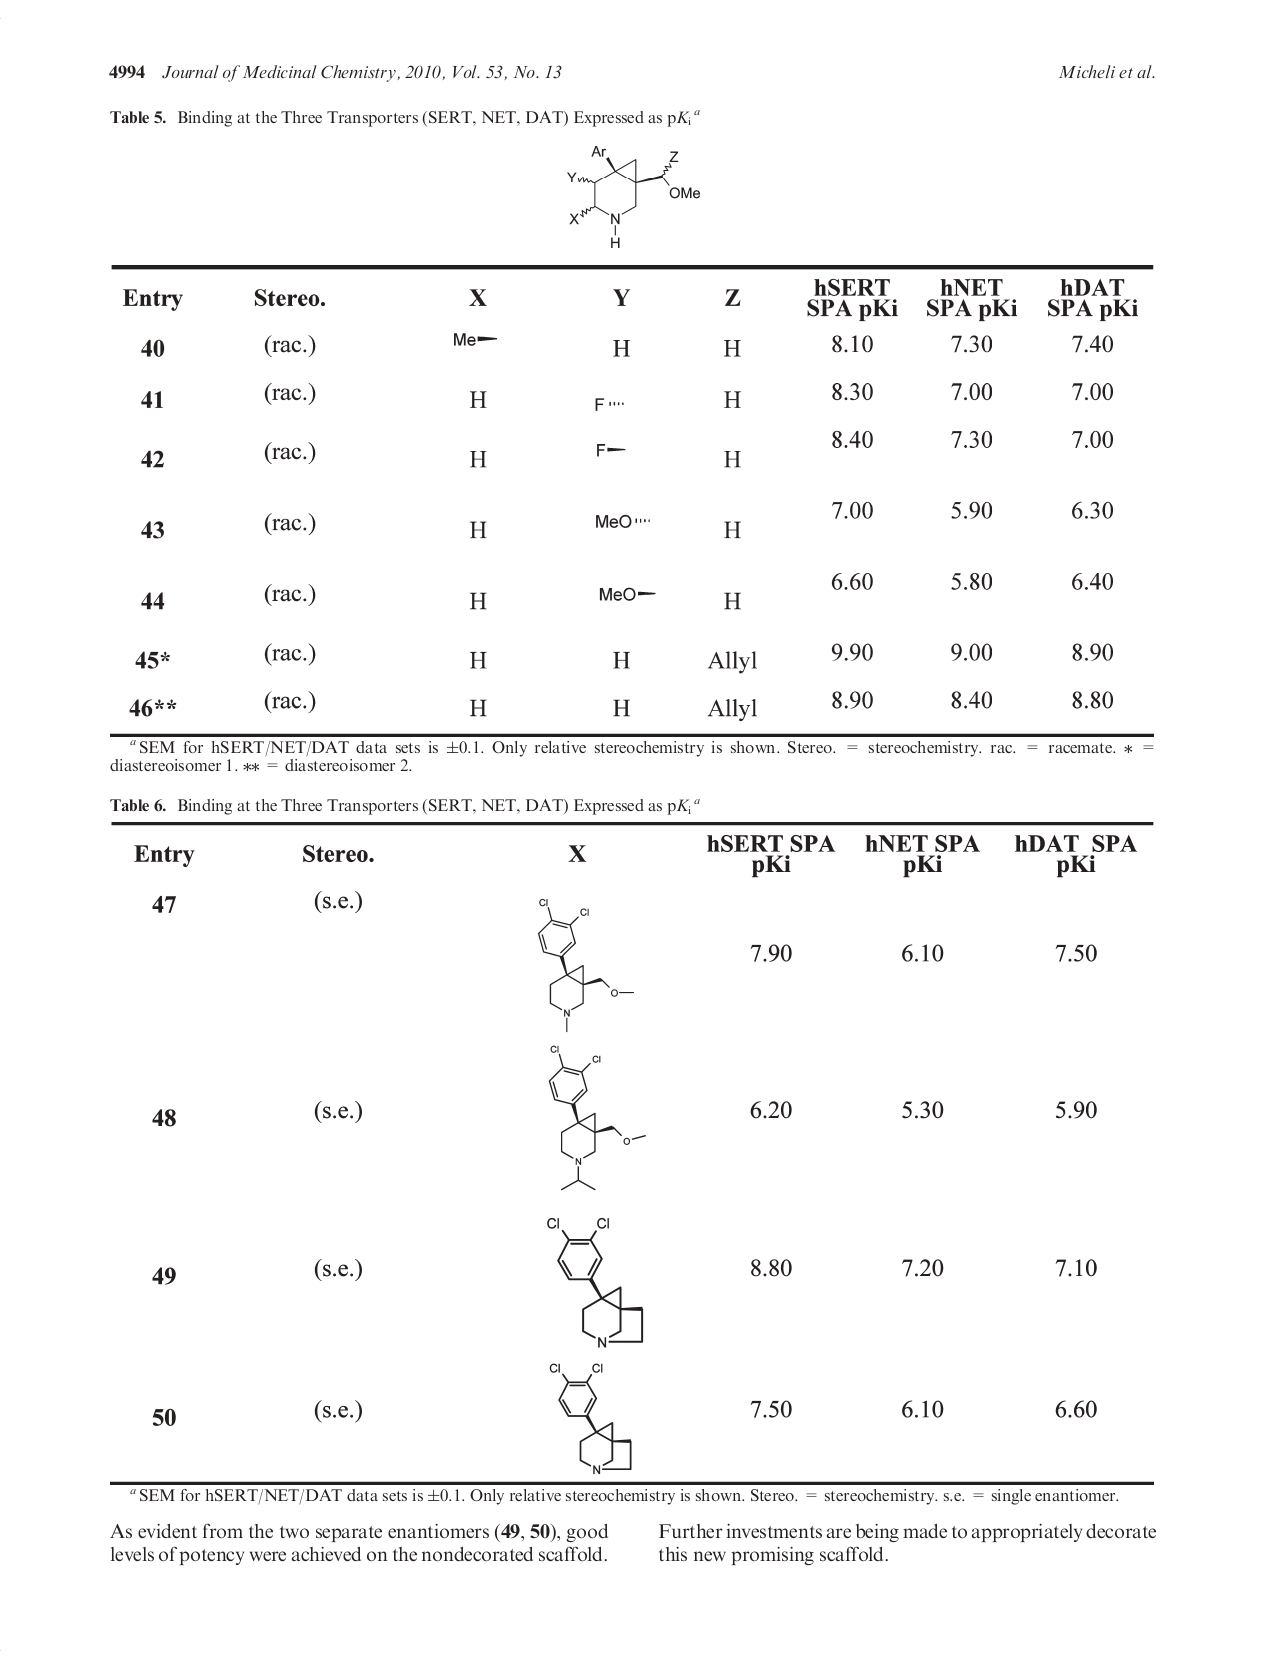exist_molecular: (543, 1043, 650, 1192), (564, 140, 702, 250), (535, 888, 636, 1035), (545, 1214, 648, 1346), (547, 1358, 634, 1475)
